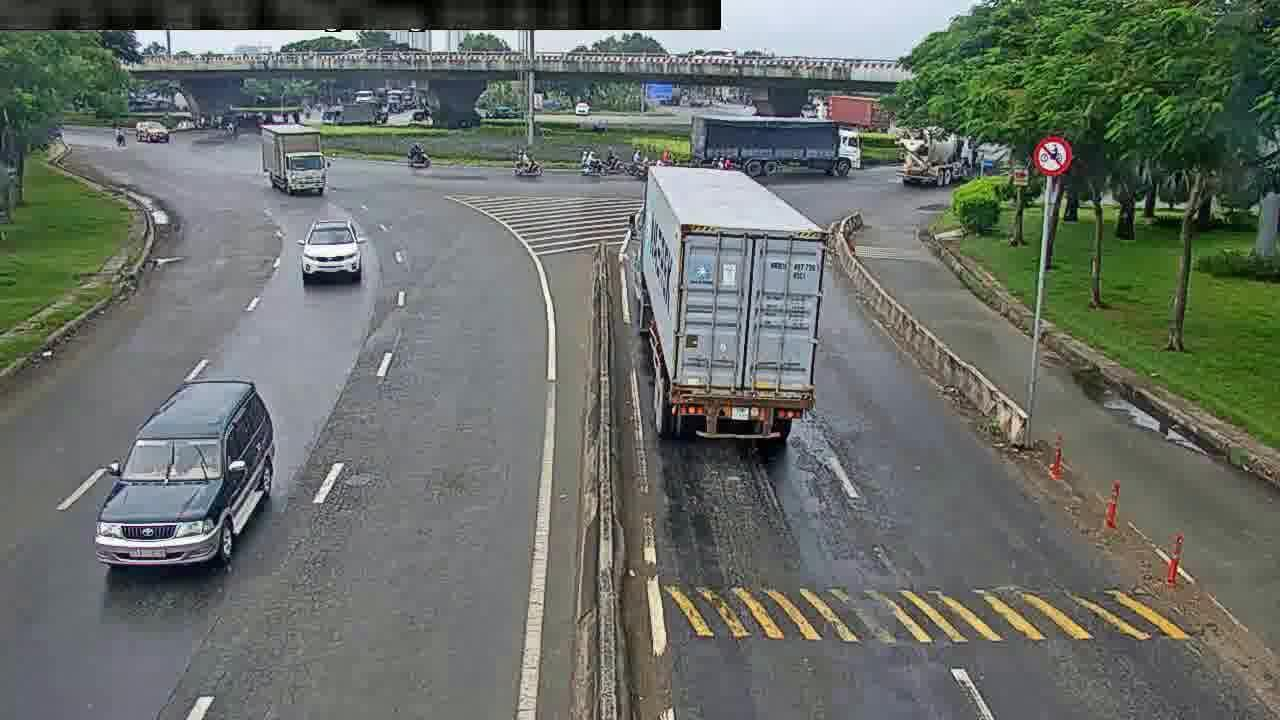8: (631, 165, 823, 443), (688, 112, 863, 180), (260, 124, 328, 195)
container: (94, 378, 276, 562), (302, 220, 362, 279)
motorbike: (576, 150, 607, 179), (403, 142, 432, 171), (513, 151, 542, 177)
